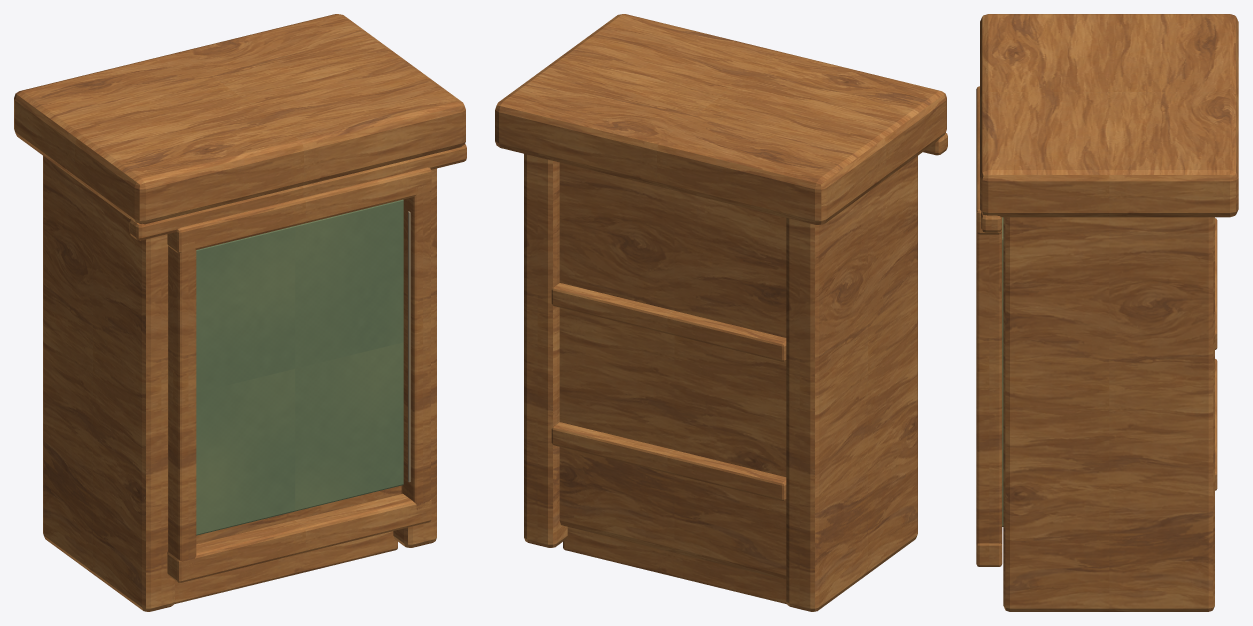
The model's file is WC_CAFE_Counter_End_A.glb.
3 views of the same model, side by side, from view 1: azimuth 30°, elevation 25°; view 2: azimuth 150°, elevation 25°; view 3: azimuth 270°, elevation 25° (orthographic).
Visible parts, largest first — view 1: WC_CAFE_Counter_End_A_RenderMesh; view 2: WC_CAFE_Counter_End_A_RenderMesh; view 3: WC_CAFE_Counter_End_A_RenderMesh.
Part boxes in pixels (x1,y1,x2,y2): WC_CAFE_Counter_End_A_RenderMesh: [14, 14, 466, 611]; WC_CAFE_Counter_End_A_RenderMesh: [495, 14, 947, 611]; WC_CAFE_Counter_End_A_RenderMesh: [976, 14, 1238, 611].
Bounding box in the file's own units: 0.82 × 1.08 × 0.5575.
5 materials, 4 textured.
